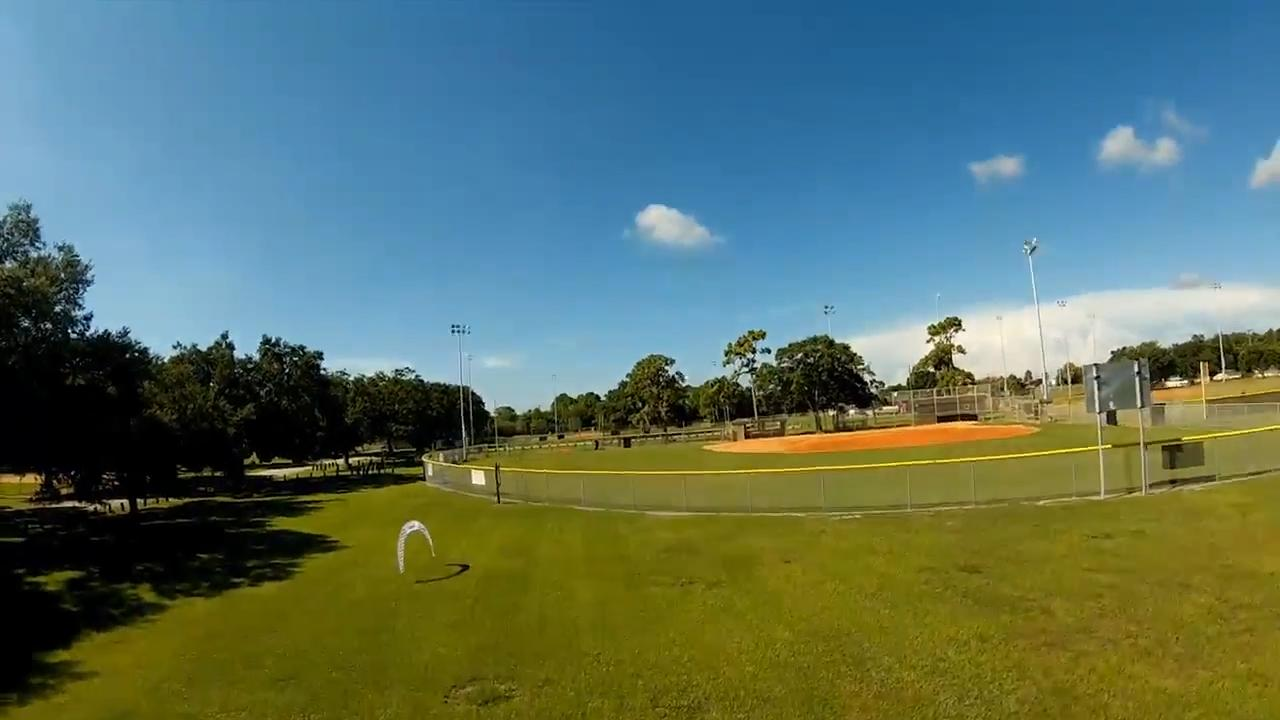gate: (396, 519, 438, 573)
